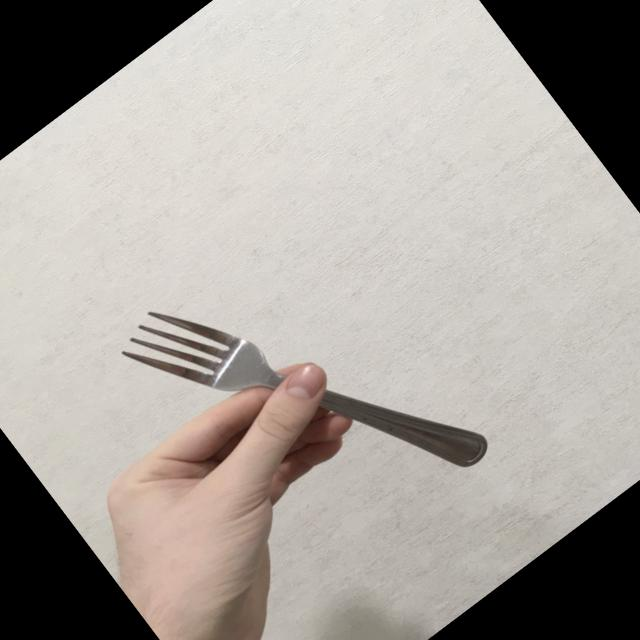fork: (108, 194, 496, 596)
